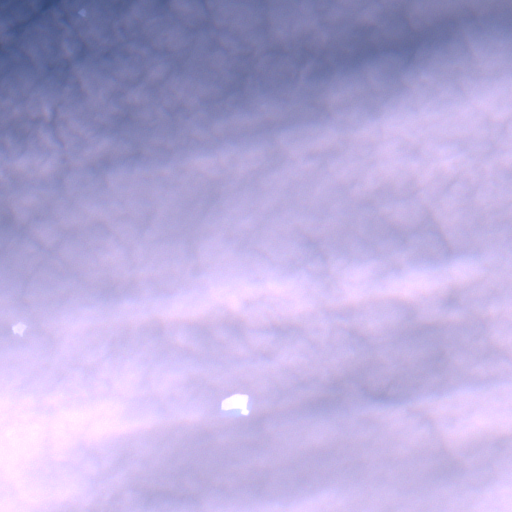Iceberg: (221, 394, 248, 414), (13, 323, 25, 336), (78, 9, 85, 15)
